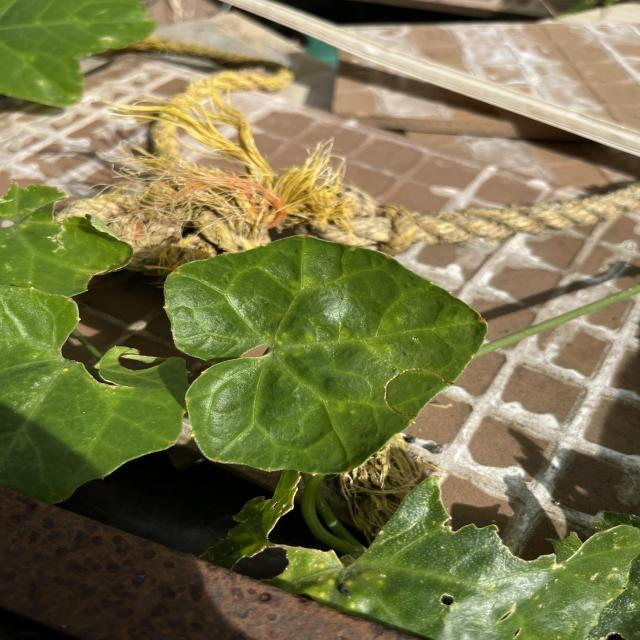Coccinia grandis: (160, 231, 490, 478)
